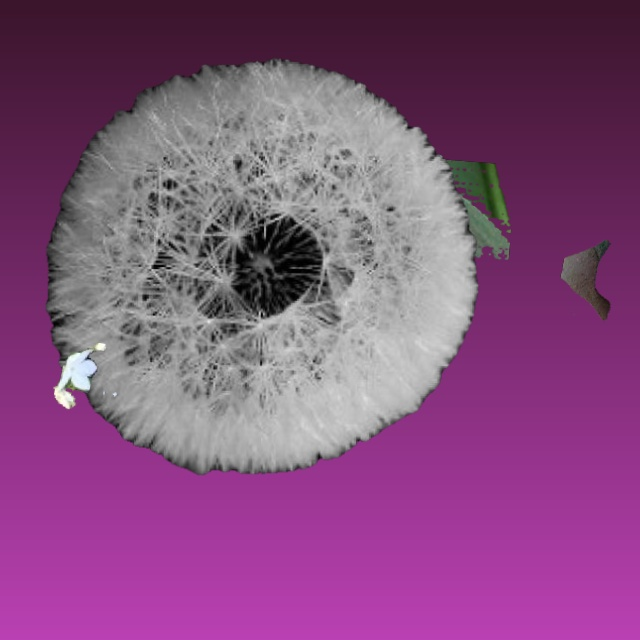butterfly flower: (348, 155, 510, 261)
dandelion: (46, 59, 477, 474)
jasmine: (54, 343, 116, 408)
ylang-ylang: (560, 240, 610, 319)
